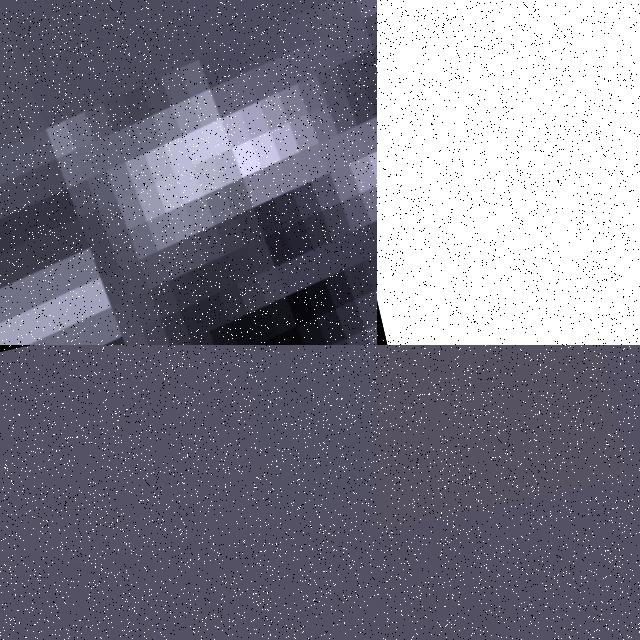0: (0, 0, 377, 345)
drone: (377, 0, 640, 345)
